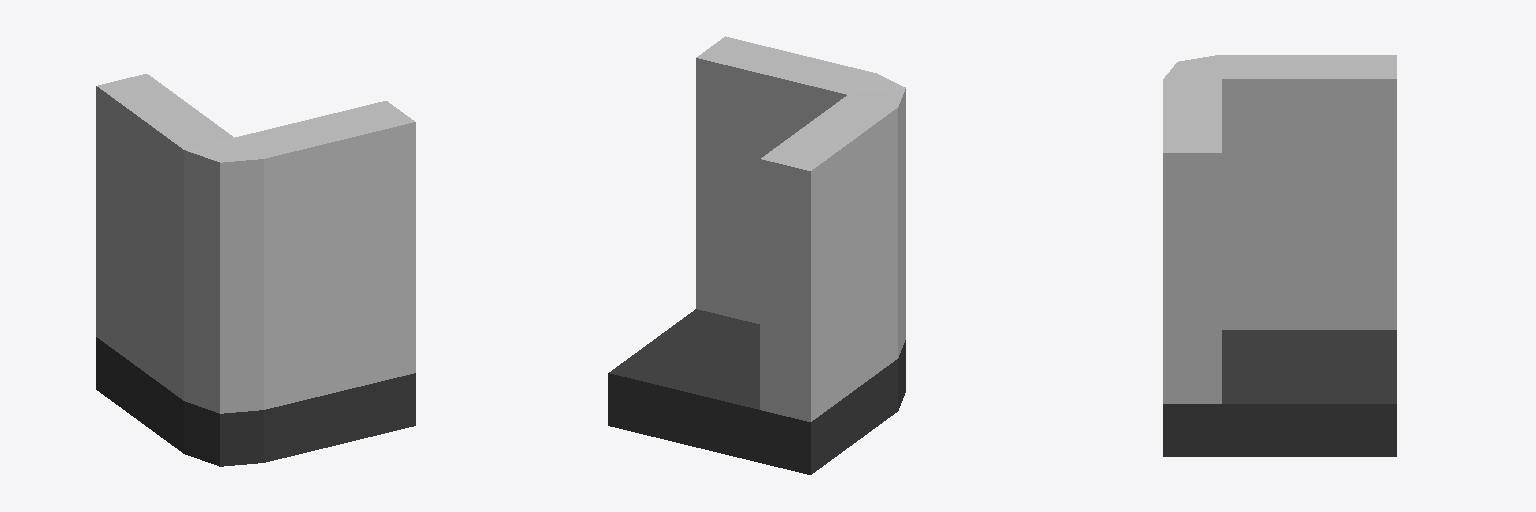
File: CornerWall.obj
The picture shows the model from 3 angles: view 1: azimuth 30°, elevation 25°; view 2: azimuth 150°, elevation 25°; view 3: azimuth 270°, elevation 25°; orthographic projection.
Parts seen in each view (by area): view 1: Cube; view 2: Cube; view 3: Cube.
Part boxes in pixels (x1,y1,x2,y2): Cube: (96,74,415,466); Cube: (608,36,905,474); Cube: (1163,55,1396,456).
Size of the model in its own units: 4 by 5.75 by 4.